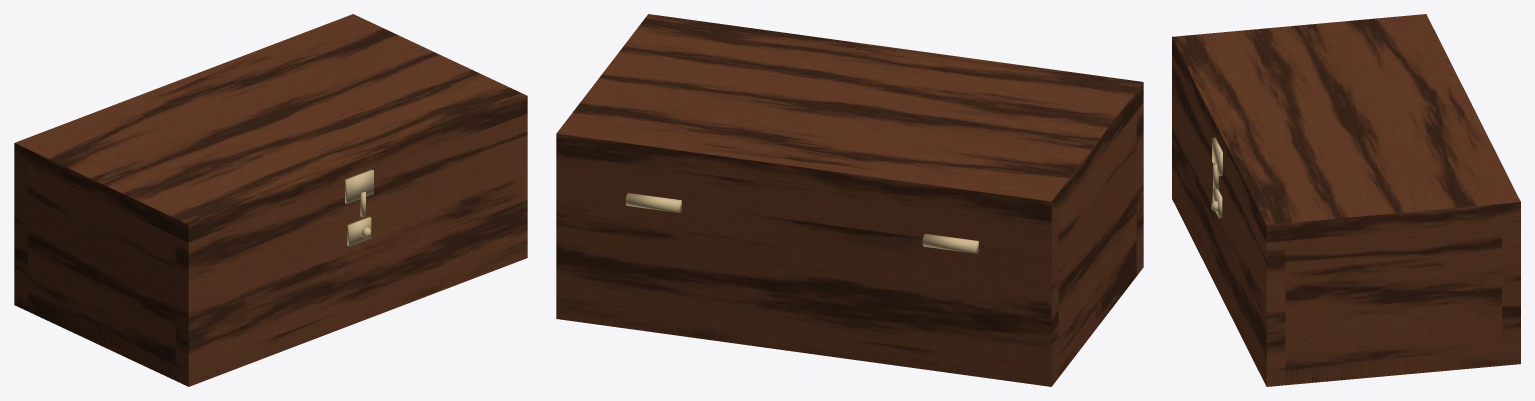
The model's file is RibbonBox.glb.
The picture shows the model from 3 angles, left to right: view 1: azimuth 30°, elevation 25°; view 2: azimuth 150°, elevation 25°; view 3: azimuth 270°, elevation 25°; orthographic projection. The views are drawn at different scales.
Parts seen in each view (by area): view 1: RibbonBox_Lid, RibbonBox_Base, RibbonBox_HaspPlate, RibbonBox_KeeperPlate; view 2: RibbonBox_Lid, RibbonBox_Base, RibbonBox_Hinge_R, RibbonBox_Hinge_L; view 3: RibbonBox_Lid, RibbonBox_Base, RibbonBox_HaspPlate.
Part boxes in pixels (<box>): RibbonBox_Lid: <box>14,14,527,271</box>; RibbonBox_Base: <box>14,143,527,386</box>; RibbonBox_HaspPlate: <box>345,169,373,203</box>; RibbonBox_KeeperPlate: <box>347,216,371,246</box>; RibbonBox_Lid: <box>556,14,1143,255</box>; RibbonBox_Base: <box>556,136,1143,386</box>; RibbonBox_Hinge_R: <box>625,193,681,212</box>; RibbonBox_Hinge_L: <box>922,233,978,253</box>; RibbonBox_Lid: <box>1172,14,1520,271</box>; RibbonBox_Base: <box>1172,84,1520,386</box>; RibbonBox_HaspPlate: <box>1212,137,1222,176</box>.
Size of the model in its own units: 0.3071 by 0.113 by 0.2147.
Materials: 3 (1 with a texture image).
